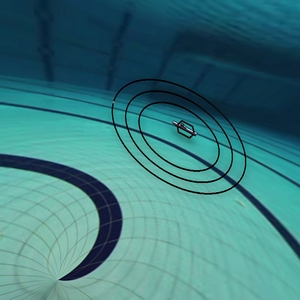circle: (101, 67, 262, 210)
submarine: (162, 112, 202, 147)
